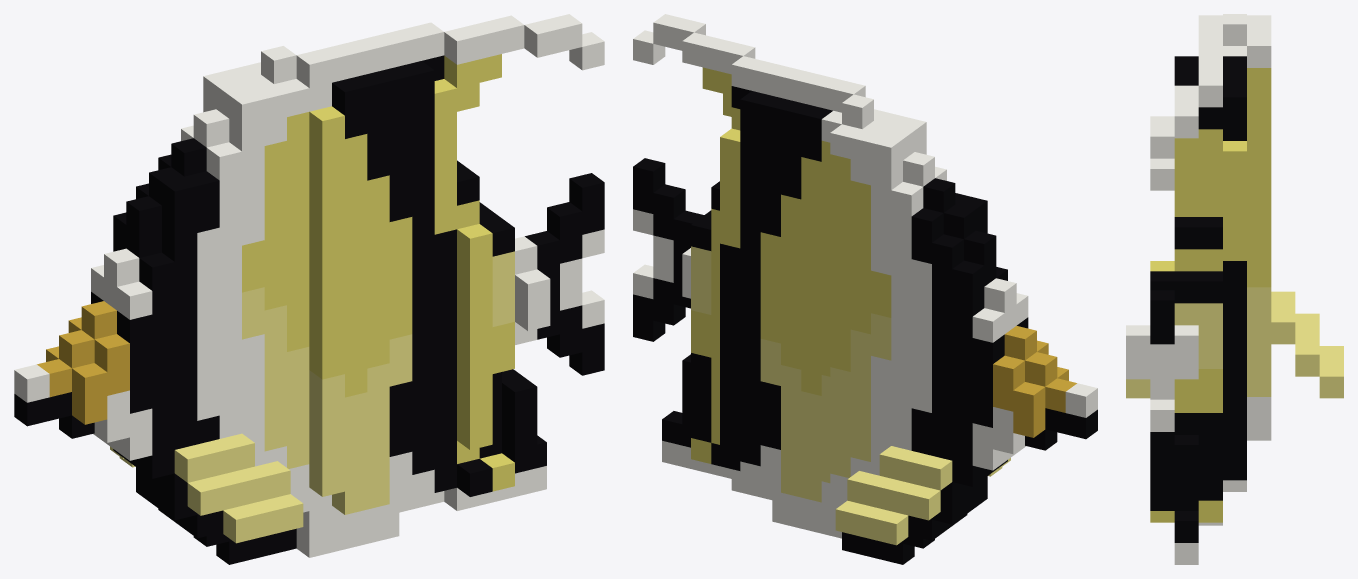
The model's file is moorish-idol.glb.
3 views of the same model, side by side, from view 1: azimuth 30°, elevation 25°; view 2: azimuth 150°, elevation 25°; view 3: azimuth 270°, elevation 25° (orthographic). The views are drawn at different scales.
Parts seen in each view (by area): view 1: 08; view 2: 08; view 3: 08.
Part boxes in pixels (x1,y1,x2,y2): 08: (14,14,604,564); 08: (633,14,1097,564); 08: (1126,14,1343,564).
Size of the model in its own units: 2.4 by 2.1 by 0.9.
1 material, 1 textured.
